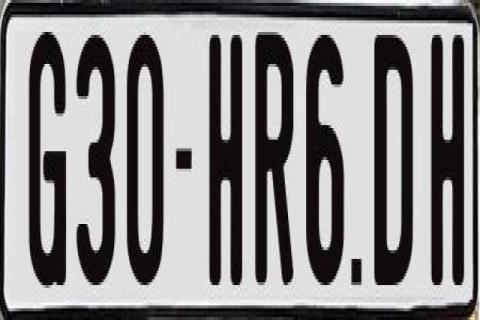0: (125, 29, 168, 294), (74, 26, 115, 294), (304, 29, 341, 279)
D: (374, 29, 417, 288)
G: (28, 23, 70, 291)
H: (207, 32, 240, 285), (429, 26, 459, 288)
R: (252, 24, 296, 282)
